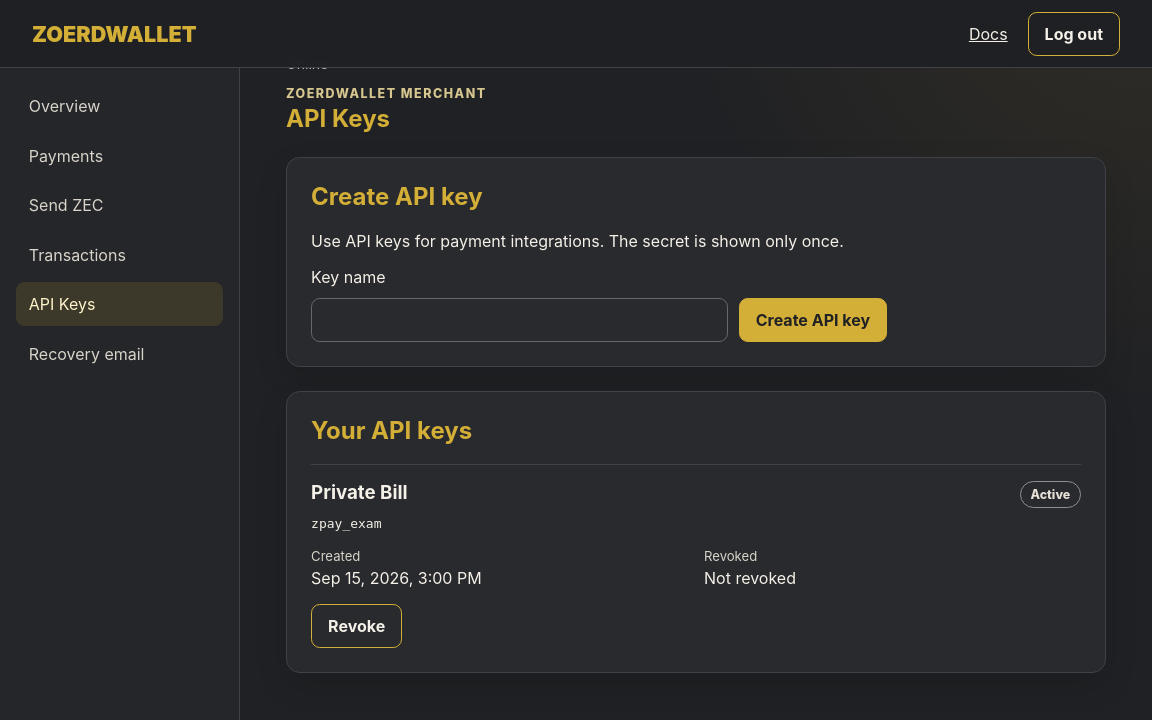
Test case: API keys page › cancels revocation without a request, then refreshes metadata after a 204
The image size is (1152, 720).
(page scrolled)
What coordinates should you click on to do the following:
click the button with aria-label "Revoke Private Bill"
I would click on:
 (357, 626)
Its box is [311,604,402,648].
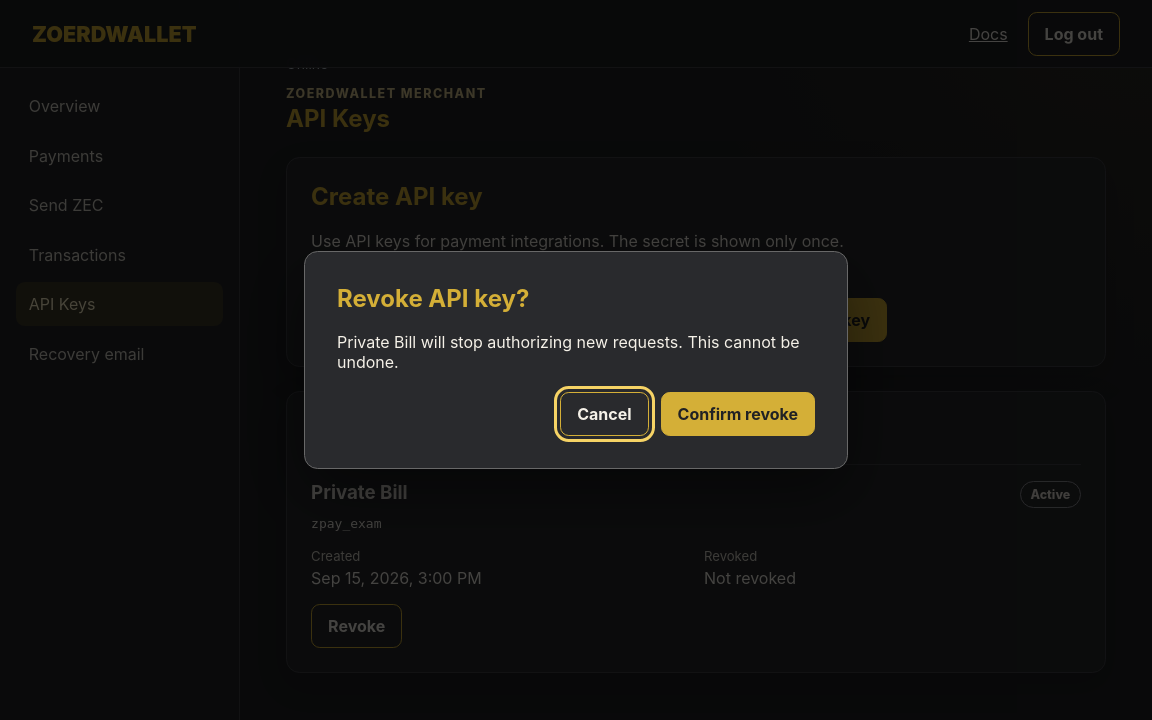
Expected: the dialog "Revoke API key?" is shown, [304,250,848,469]
What coordinates should you click on to do the following:
click the button "Cancel"
I would click on:
 (604, 414)
Its box is [560,392,649,436].
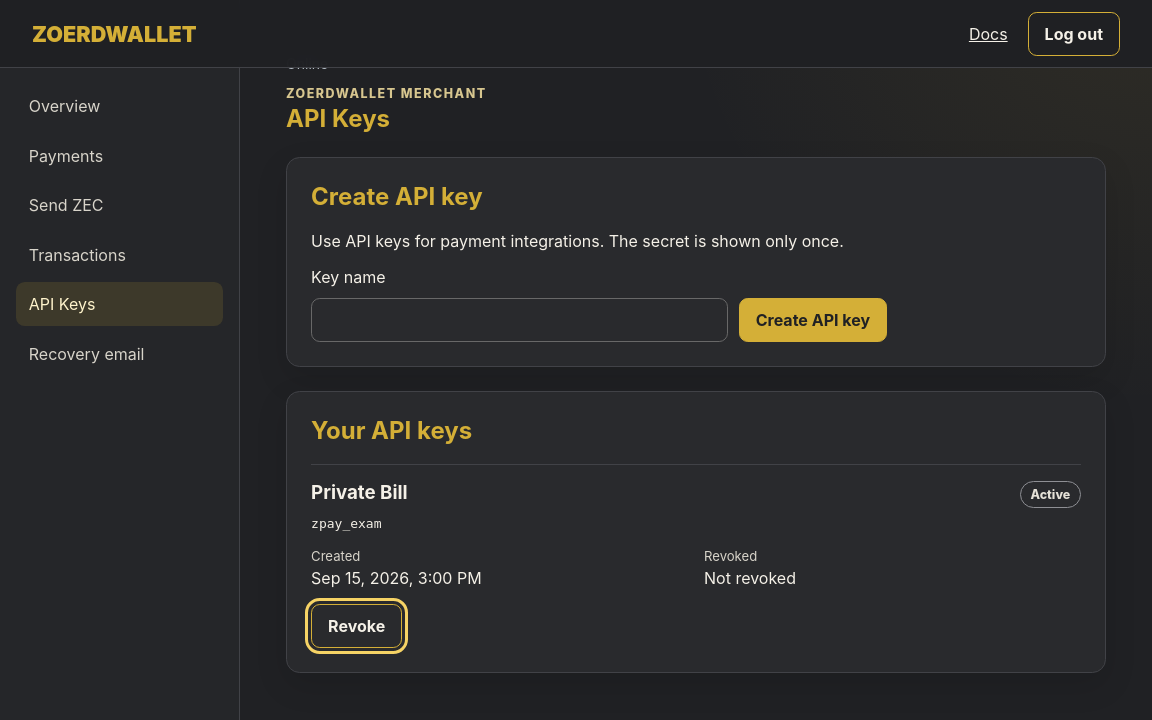
What coordinates should you click on to do the following:
click the button with aria-label "Revoke Private Bill"
I would click on:
 (357, 626)
Its box is [311,604,402,648].
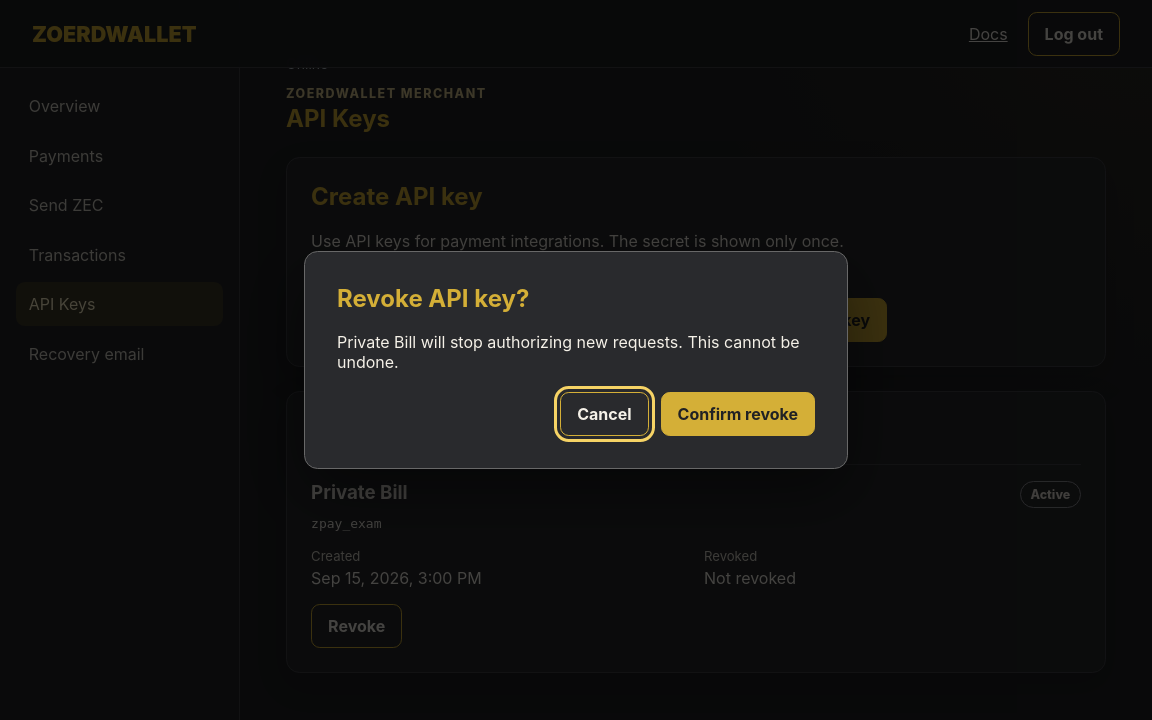
What coordinates should you click on to do the following:
click the button "Confirm revoke"
I would click on:
 (738, 414)
Its box is [661,392,815,436].
(page scrolled)
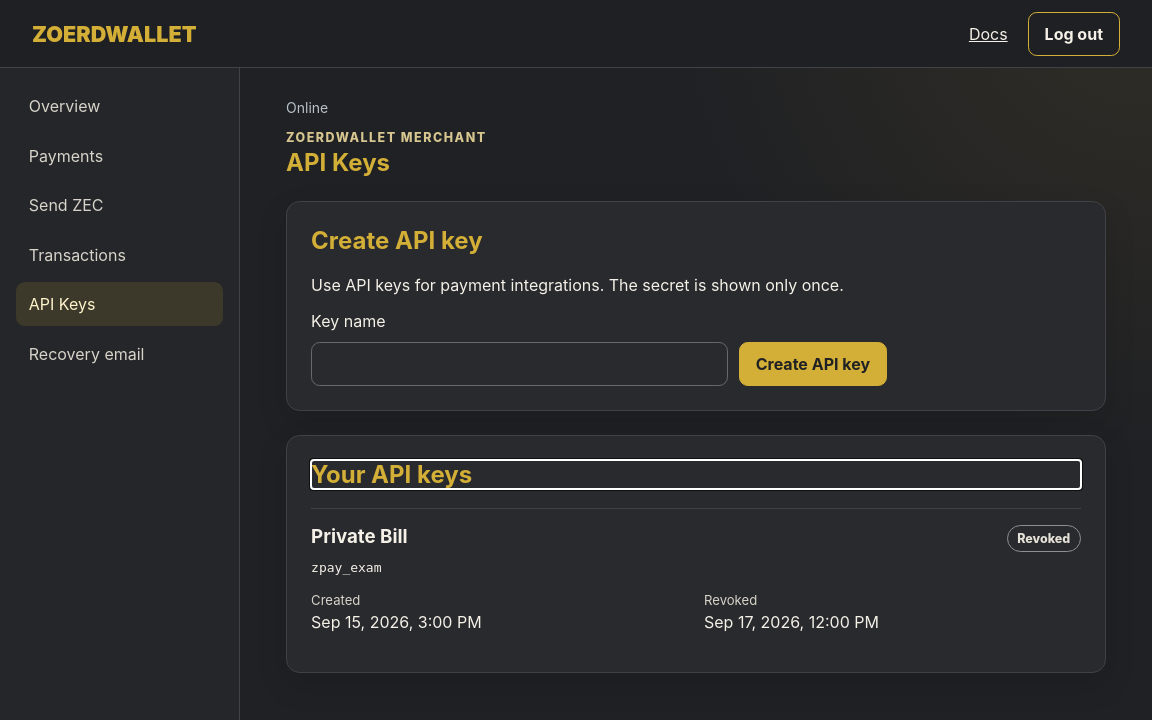
Expected: the text "Revoked" in the row of "Private Bill" is shown, [1017,531,1070,546]
